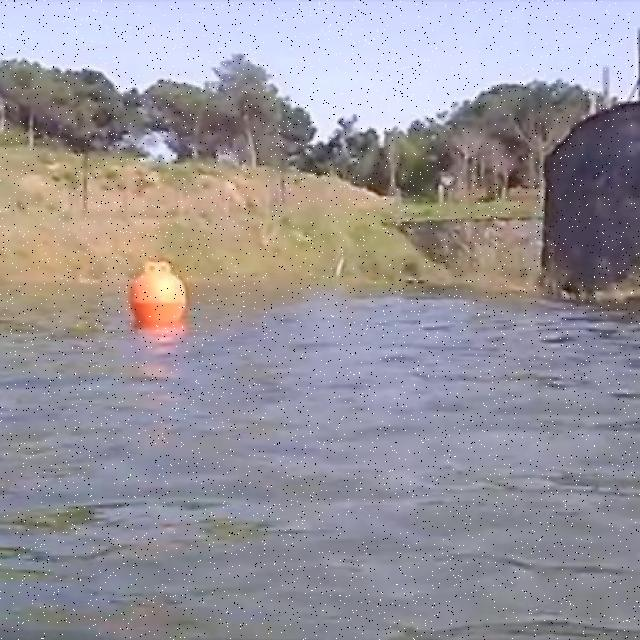buoy: (129, 261, 187, 326)
